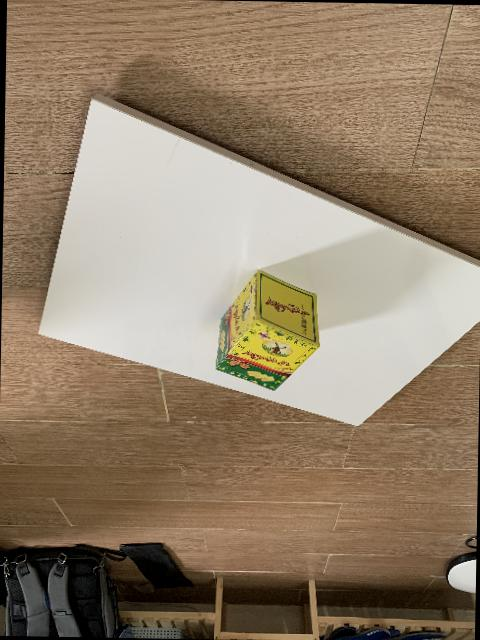luong_kho: (214, 268, 319, 390)
